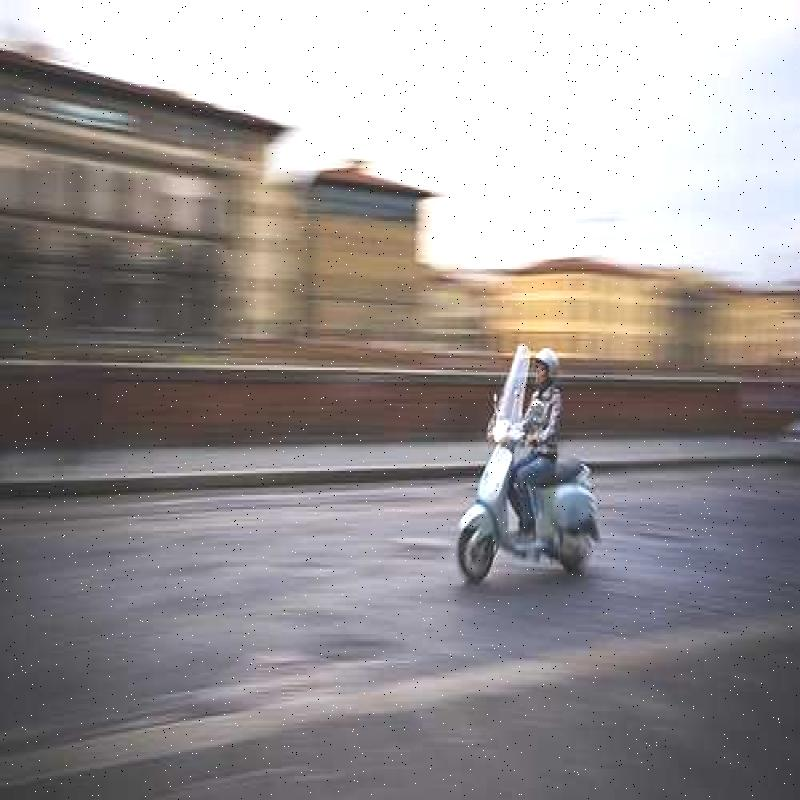bike: (455, 393, 606, 601)
